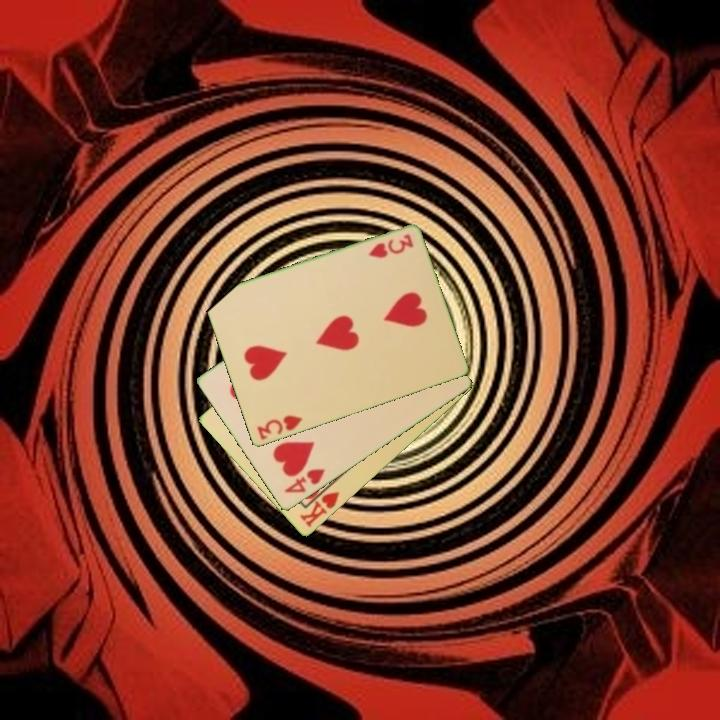3h: (253, 412, 305, 443), (365, 231, 416, 261)
4h: (280, 465, 328, 496)
Kh: (296, 479, 342, 531)
